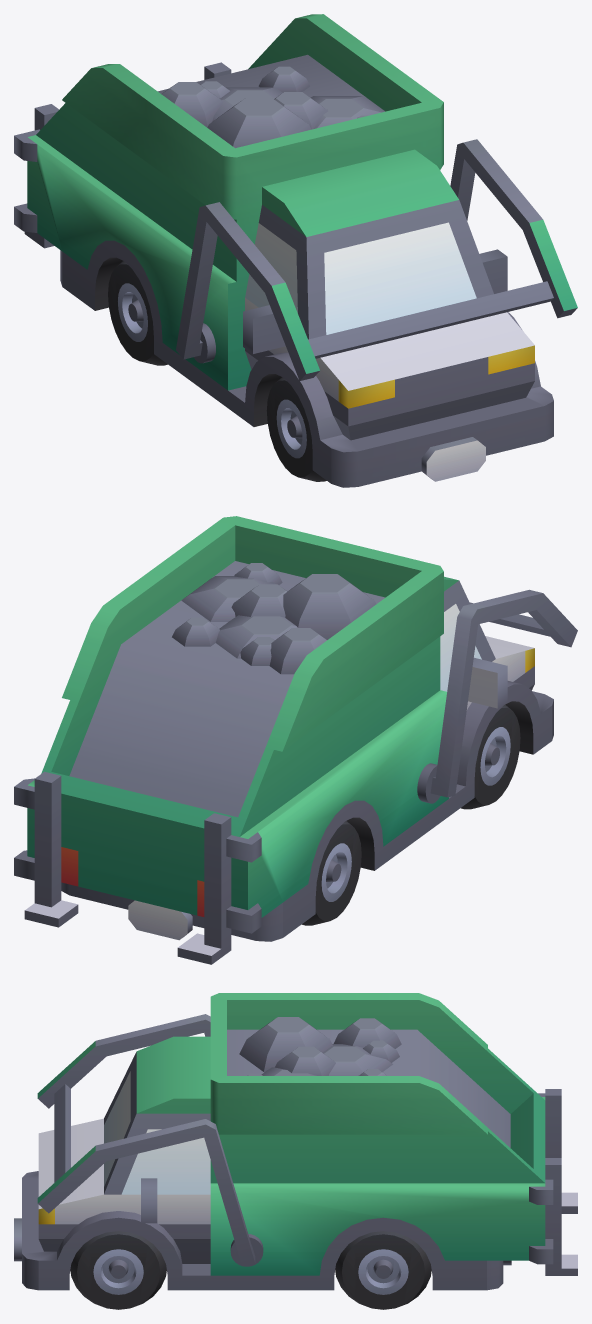
Rendered from sopbil.glb.
The picture shows the model from 3 angles, top to bottom: view 1: azimuth 30°, elevation 25°; view 2: azimuth 150°, elevation 25°; view 3: azimuth 270°, elevation 25°; orthographic projection. The views are drawn at different scales.
Visible parts, largest first — view 1: body, arm, trash, wheel-front-right, wheel-back-right; view 2: body, trash, arm, wheel-front-right, wheel-back-right; view 3: body, arm, trash, wheel-front-left, wheel-back-left.
Boxes of the visible parts, bbox=[...] form: body: bbox=[14, 14, 553, 487]; arm: bbox=[176, 139, 577, 380]; trash: bbox=[161, 66, 385, 148]; wheel-front-right: bbox=[266, 377, 326, 481]; wheel-back-right: bbox=[108, 261, 167, 365]; body: bbox=[14, 516, 553, 964]; trash: bbox=[172, 563, 376, 674]; arm: bbox=[417, 589, 577, 803]; wheel-front-right: bbox=[460, 704, 520, 809]; wheel-back-right: bbox=[302, 821, 361, 925]; body: bbox=[14, 993, 577, 1290]; arm: bbox=[37, 1014, 263, 1266]; trash: bbox=[239, 1017, 401, 1075]; wheel-front-left: bbox=[70, 1231, 166, 1309]; wheel-back-left: bbox=[335, 1231, 431, 1309].
Bounding box in the file's own units: 1.6 × 1.6 × 3.45.
1 material, 1 textured.
